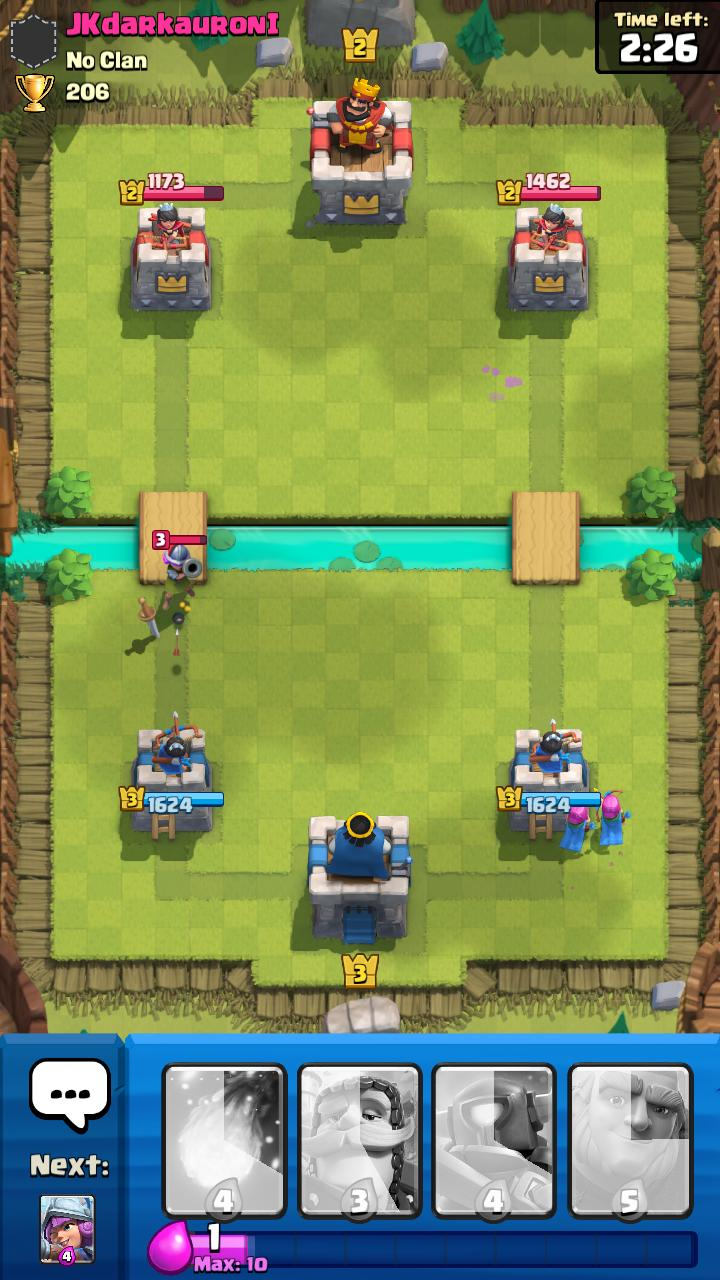ally: (594, 788, 632, 845), (558, 806, 597, 852)
enemy: (152, 530, 207, 610)
